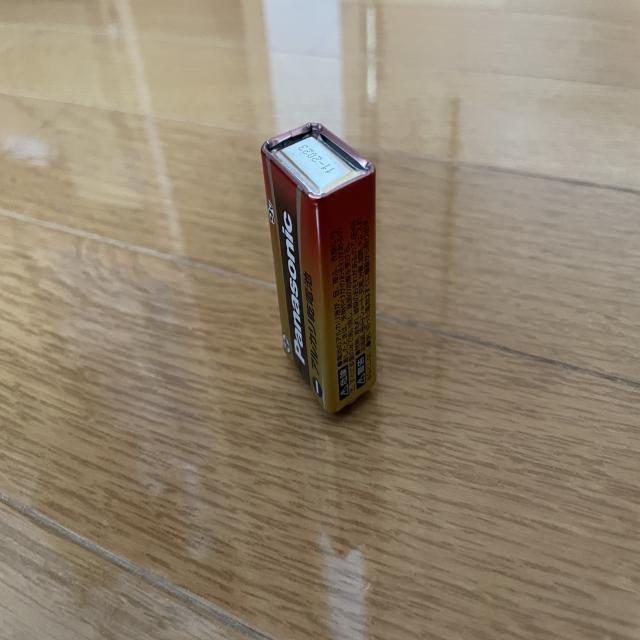9V: (260, 123, 380, 422)
